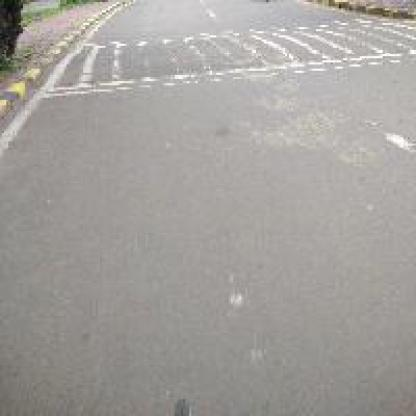Speed Bump: (39, 10, 414, 100)
